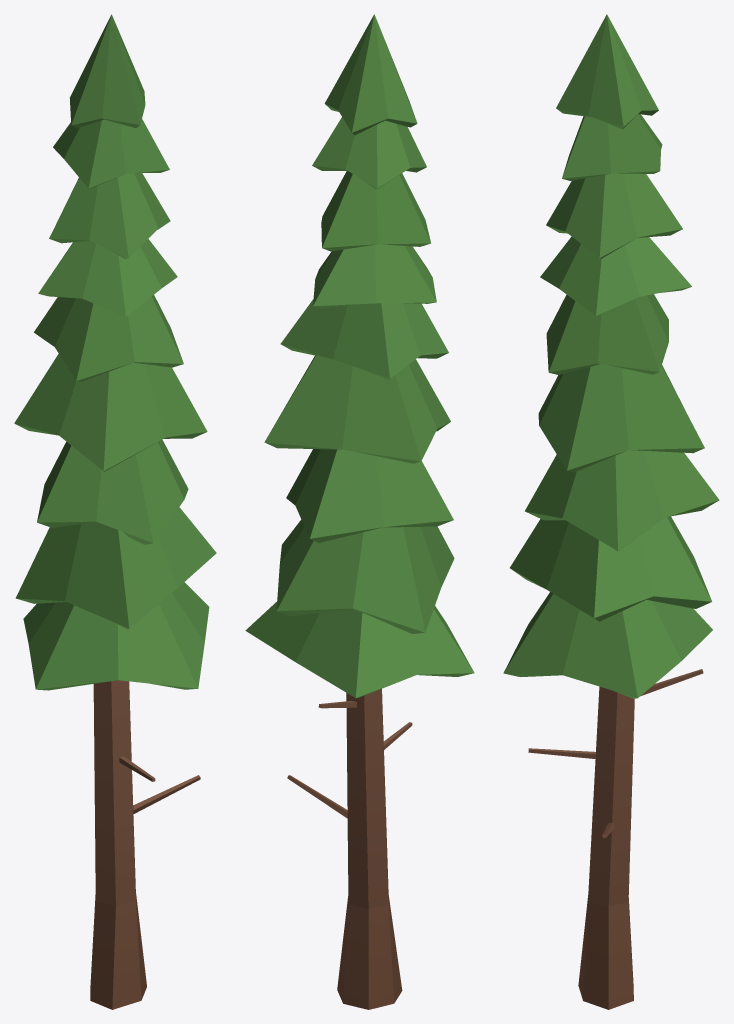
The model's file is Tree_05.fbx.
3 views of the same model, side by side, from view 1: azimuth 30°, elevation 25°; view 2: azimuth 150°, elevation 25°; view 3: azimuth 270°, elevation 25° (orthographic).
Parts seen in each view (by area): view 1: Tree_05_LOD0; view 2: Tree_05_LOD0; view 3: Tree_05_LOD0.
Boxes of the visible parts, left/top/right/bottom form: Tree_05_LOD0: left=14, top=14, right=216, bottom=1009; Tree_05_LOD0: left=245, top=14, right=474, bottom=1009; Tree_05_LOD0: left=503, top=14, right=719, bottom=1009.
Size of what is drawn, in the model's own units: 146 by 680 by 136.
